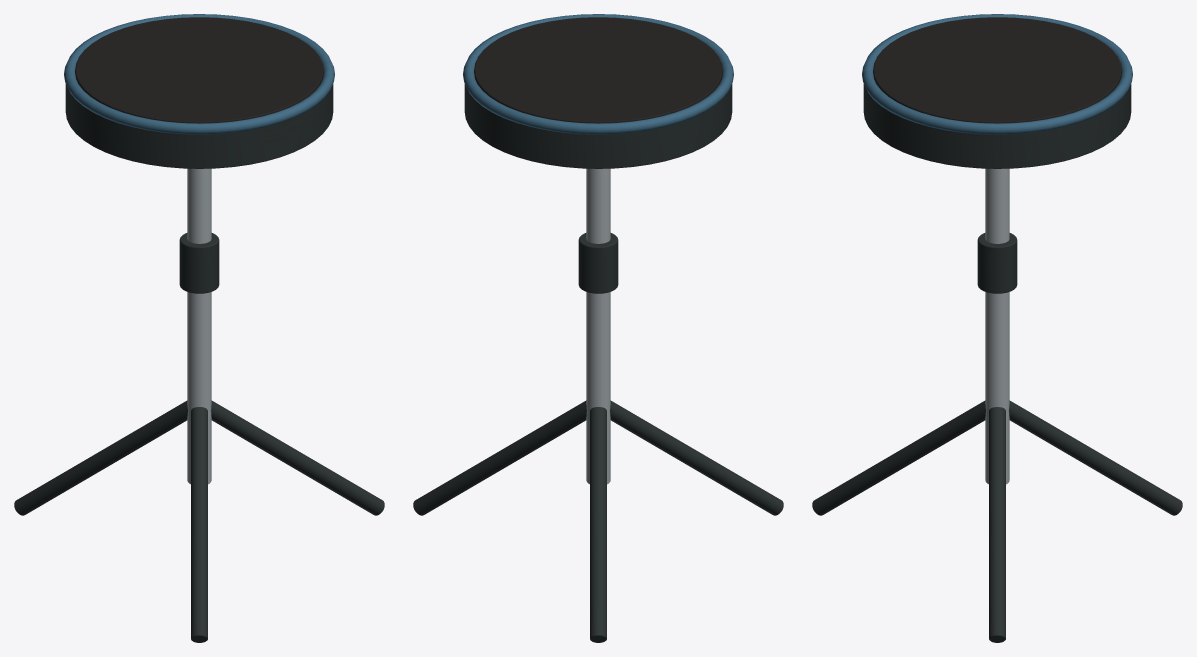
File: drum_pad.glb
3 renders of one model, left to right at view 1: azimuth 30°, elevation 25°; view 2: azimuth 150°, elevation 25°; view 3: azimuth 270°, elevation 25°, orthographic.
Visible parts, largest first — view 1: Height collar, Rubber strike surface, Pad edge bumper, Pad stand; view 2: Height collar, Rubber strike surface, Pad edge bumper, Pad stand; view 3: Height collar, Rubber strike surface, Pad edge bumper, Pad stand.
Boxes of the visible parts, box(x1,y1,x2,y2) form: Height collar: box(14, 84, 384, 642); Rubber strike surface: box(75, 17, 323, 123); Pad edge bumper: box(64, 14, 334, 134); Pad stand: box(187, 168, 211, 484); Height collar: box(413, 84, 783, 642); Rubber strike surface: box(474, 17, 722, 123); Pad edge bumper: box(463, 14, 733, 134); Pad stand: box(586, 168, 610, 484); Height collar: box(812, 84, 1182, 642); Rubber strike surface: box(873, 17, 1121, 123); Pad edge bumper: box(862, 14, 1132, 134); Pad stand: box(985, 168, 1009, 484).
Bounding box in the file's own units: 0.4026 × 0.6242 × 0.4291.
Materials: 4 (4 with a texture image).
